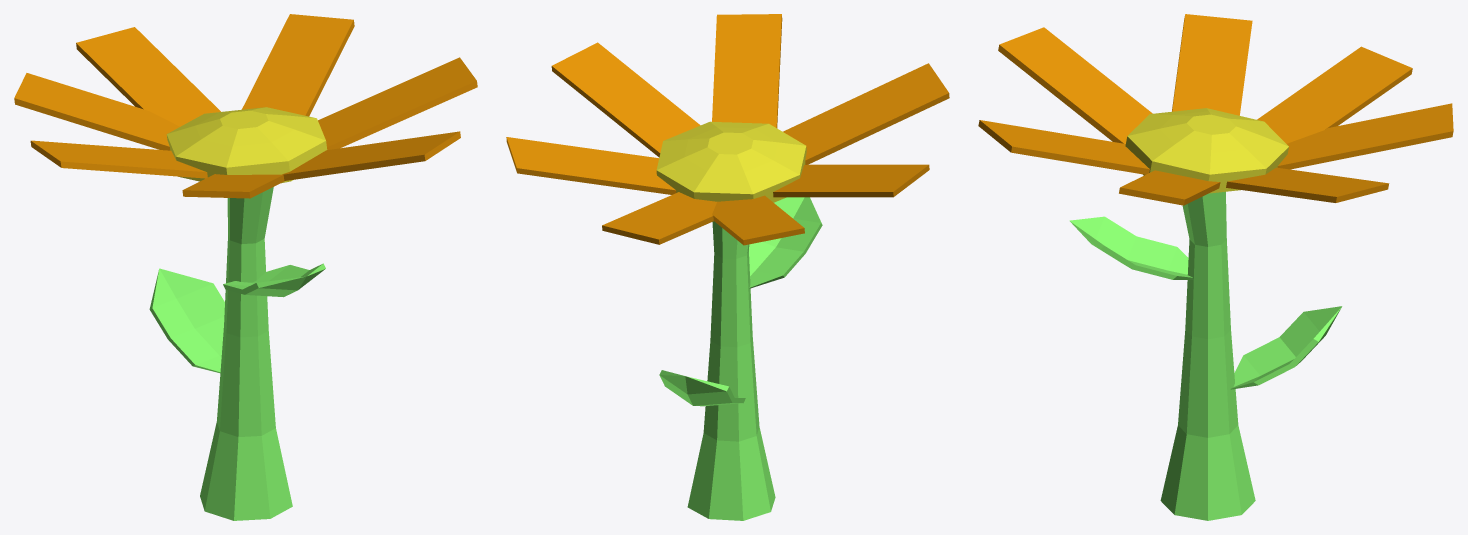
Rendered from flornaranja.fbx.
The picture shows the model from 3 angles, left to right: view 1: azimuth 30°, elevation 25°; view 2: azimuth 150°, elevation 25°; view 3: azimuth 270°, elevation 25°; orthographic projection. The views are drawn at different scales.
Parts seen in each view (by area): view 1: Circle.003; view 2: Circle.003; view 3: Circle.003.
Boxes of the visible parts, x1,y1,x2,y2 form: Circle.003: [14, 14, 477, 520]; Circle.003: [506, 14, 949, 520]; Circle.003: [978, 14, 1453, 520].
Bounding box in the file's own units: 72.82 × 72.51 × 75.96.
